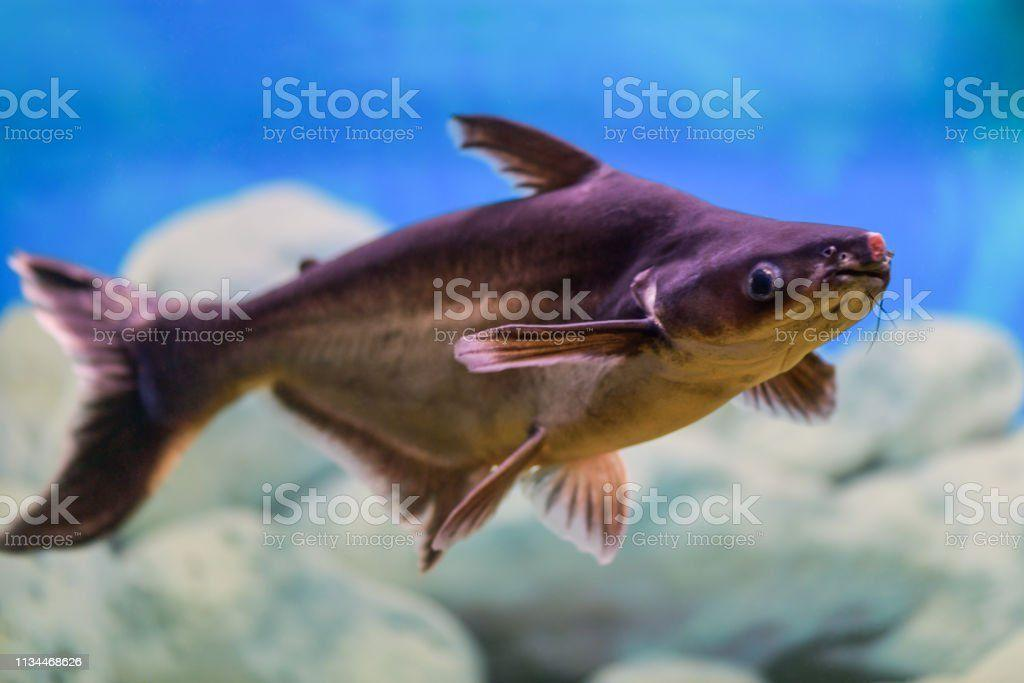Pangasius: (12, 127, 895, 578)
